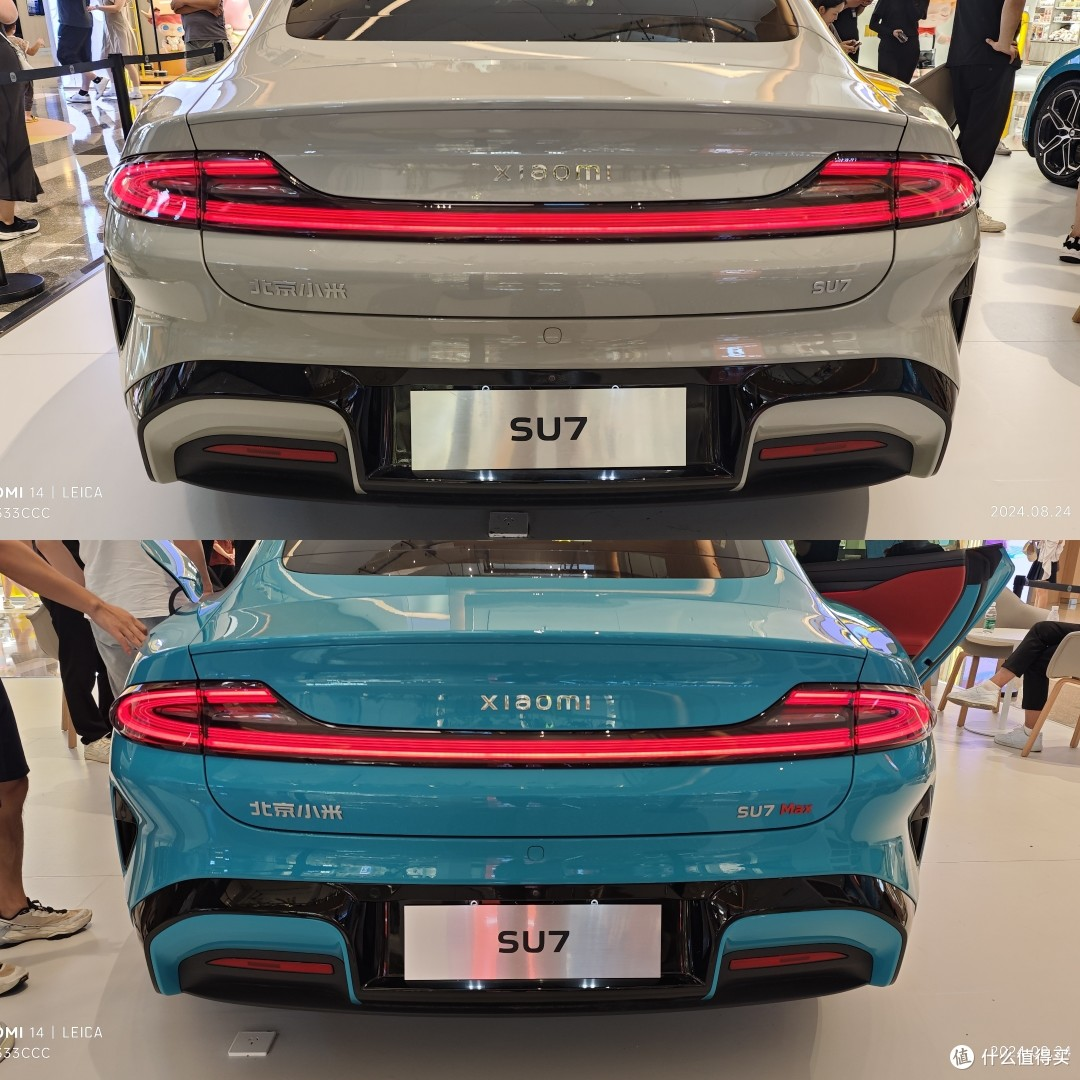su7: (114, 9, 978, 490), (91, 540, 935, 1014)
